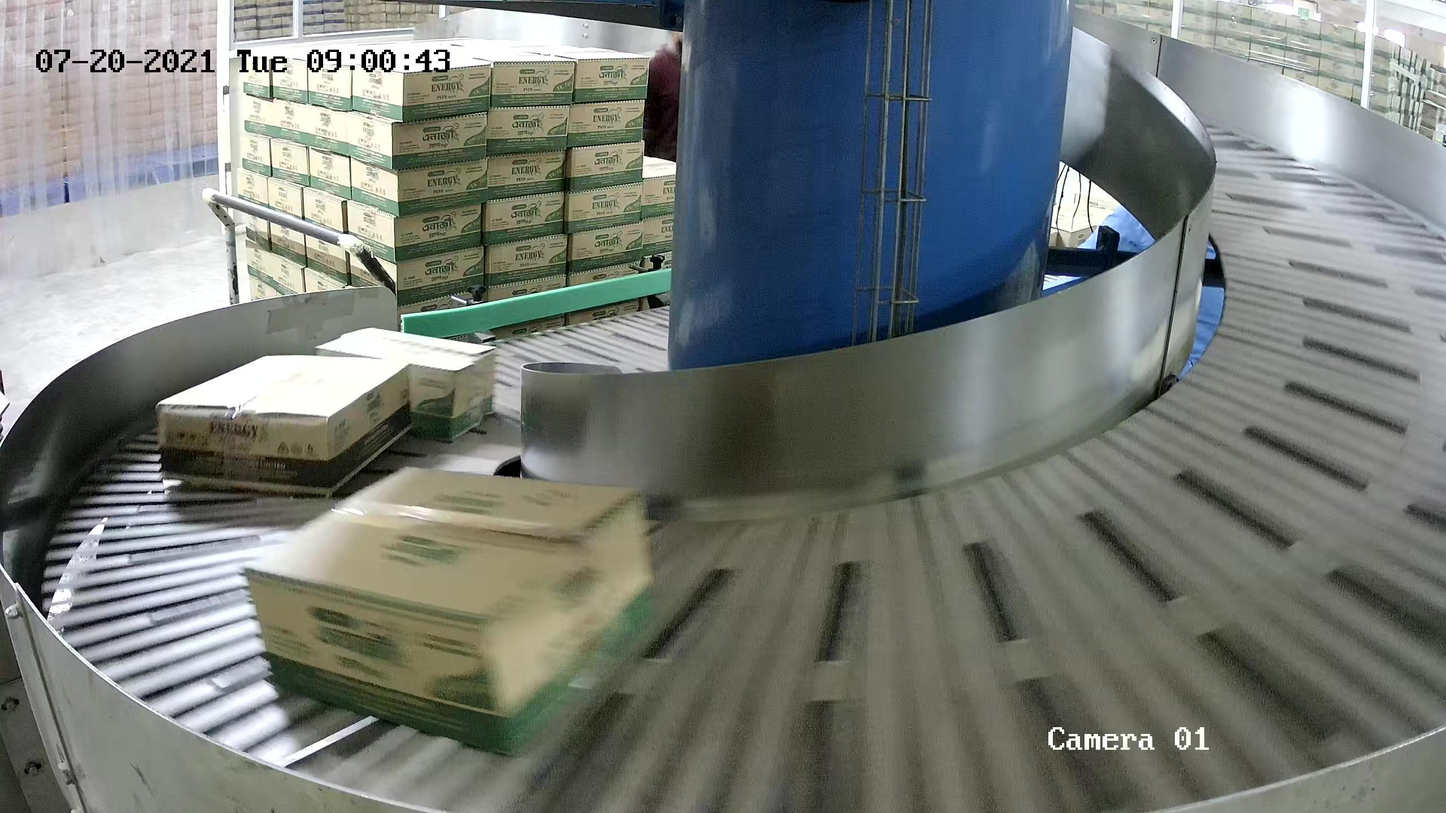Box: (242, 462, 663, 756), (158, 352, 412, 495), (316, 327, 496, 447)
